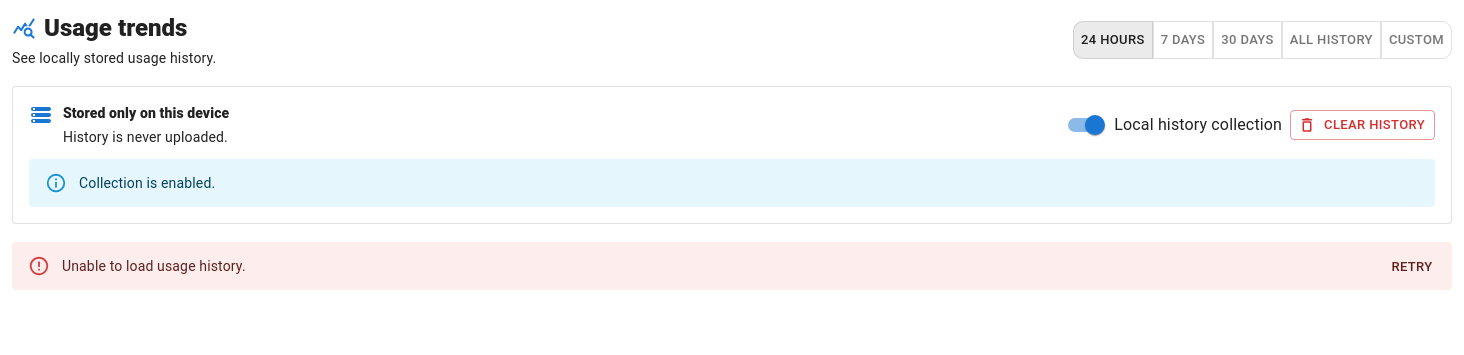
Scenario: TrendsPage › shows a safe load error and lets the user retry
This screenshot has width=1464, height=355.
Expected: the text "Unable to load usage history." is shown, [62,258,246,274]
Click the button "Retry" at (1412, 267), box [1380,252,1444,283]
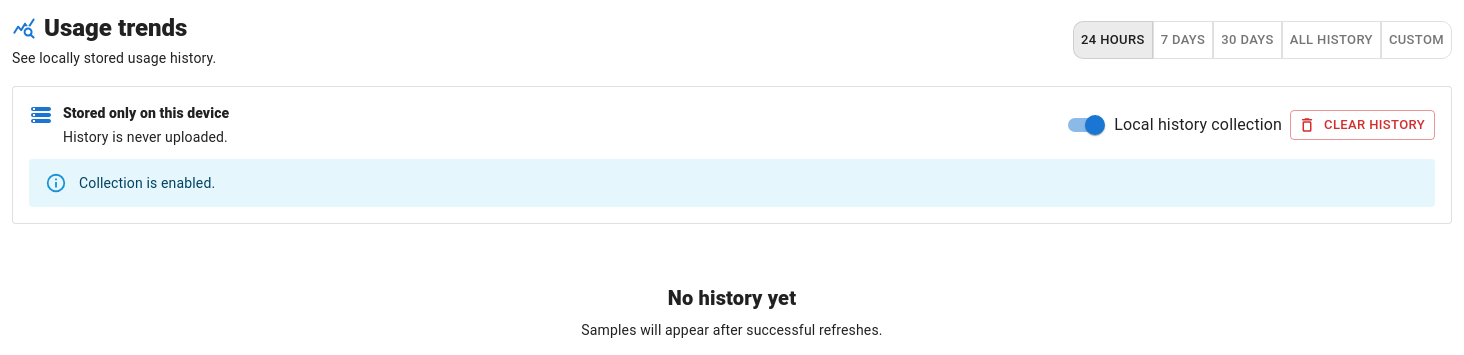
Result: the heading "No history yet" is shown at [668,286,796,310]
